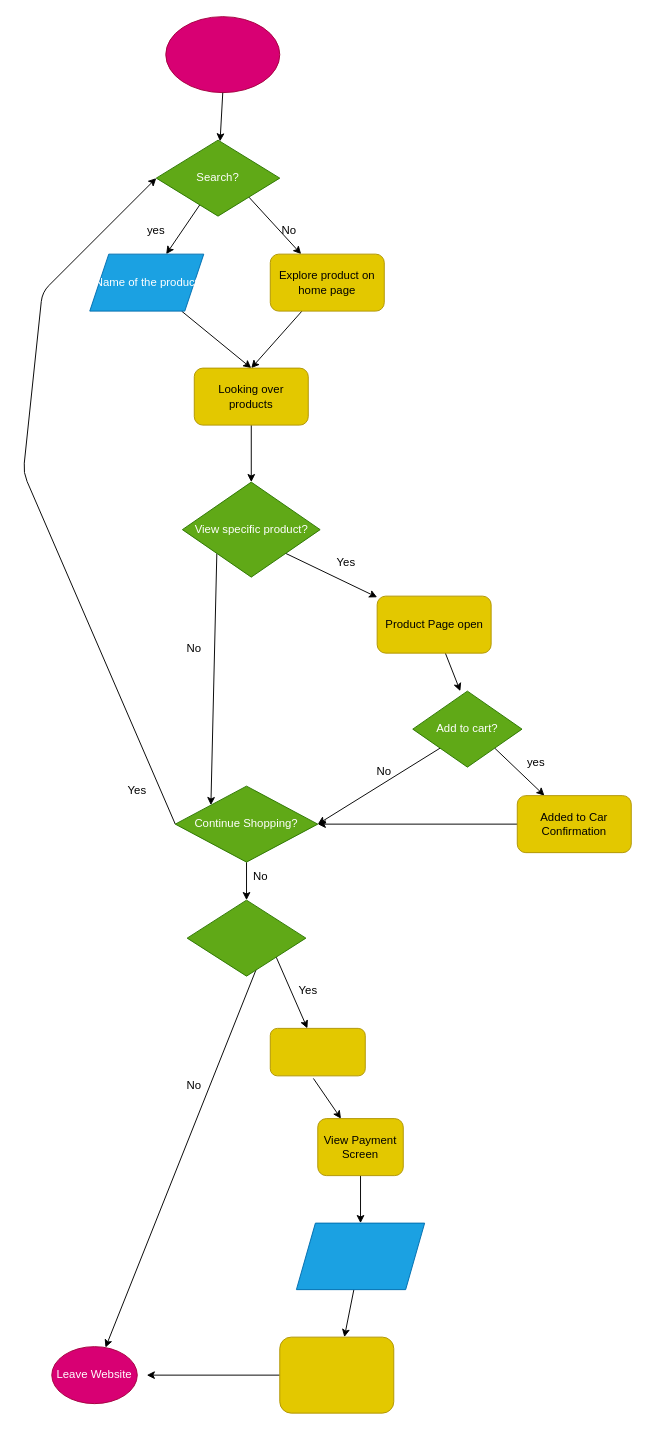
Some shapes in this 648 by 1430 pixel diagram are drawn without their labels. Each missing label, with the centre of its shape:
"Checkout?" goes at point (246, 937).
"Entering the website" goes at point (222, 54).
"Order confirmation screen && Send confirmation email to user" goes at point (336, 1374).
"Payment Information" goes at point (360, 1256).
"View Cart Screen" goes at point (317, 1051).
